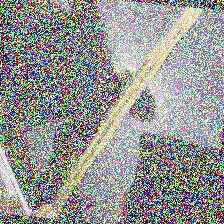Leaf_Blast: (67, 2, 181, 213)
